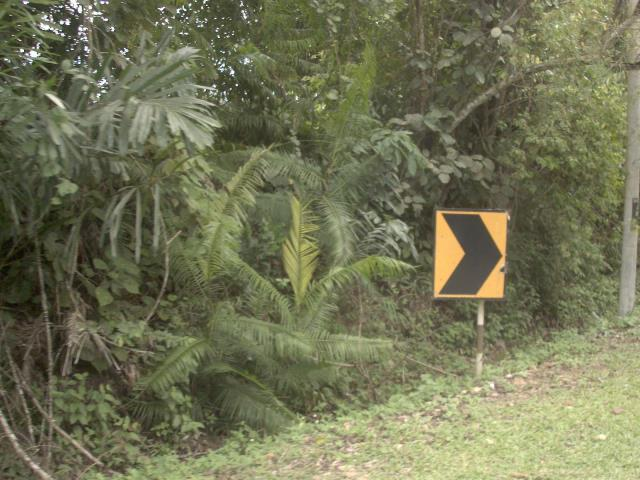traffic_sign: (422, 195, 520, 314)
